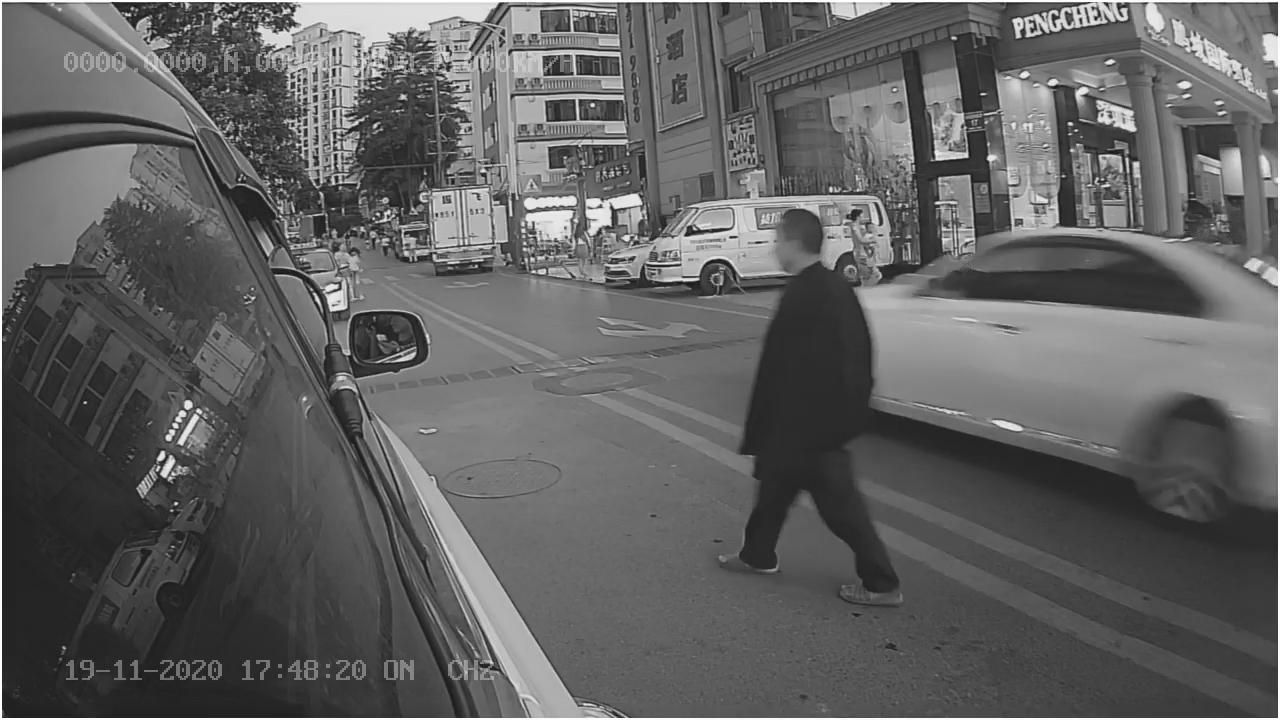person: (727, 211, 918, 617)
